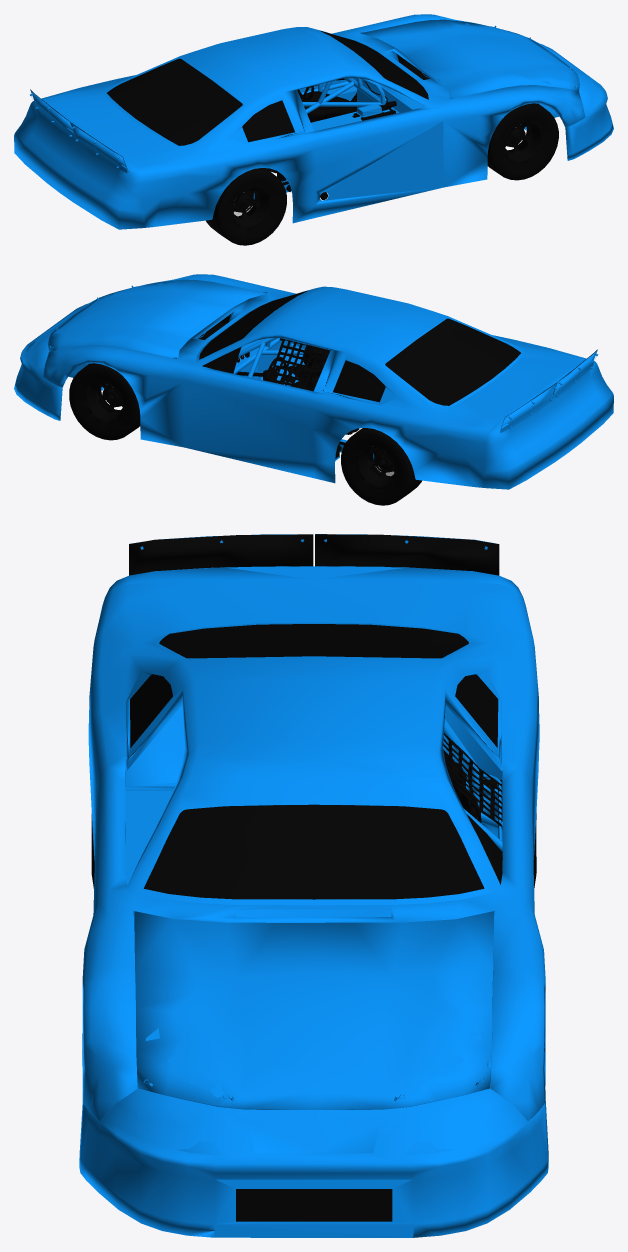
File: veh-stockcar.glb
3 views of the same model, one above another, from view 1: azimuth 30°, elevation 25°; view 2: azimuth 150°, elevation 25°; view 3: azimuth 270°, elevation 25° (orthographic). The views are drawn at different scales.
Visible parts, largest first — view 1: Object_72; view 2: Object_72; view 3: Object_72.
Boxes of the visible parts, x1,y1,x2,y2 form: Object_72: (14,14,613,245); Object_72: (14,274,613,505); Object_72: (79,534,548,1237).
Bounding box in the file's own units: 5.14 × 1.21 × 2.
